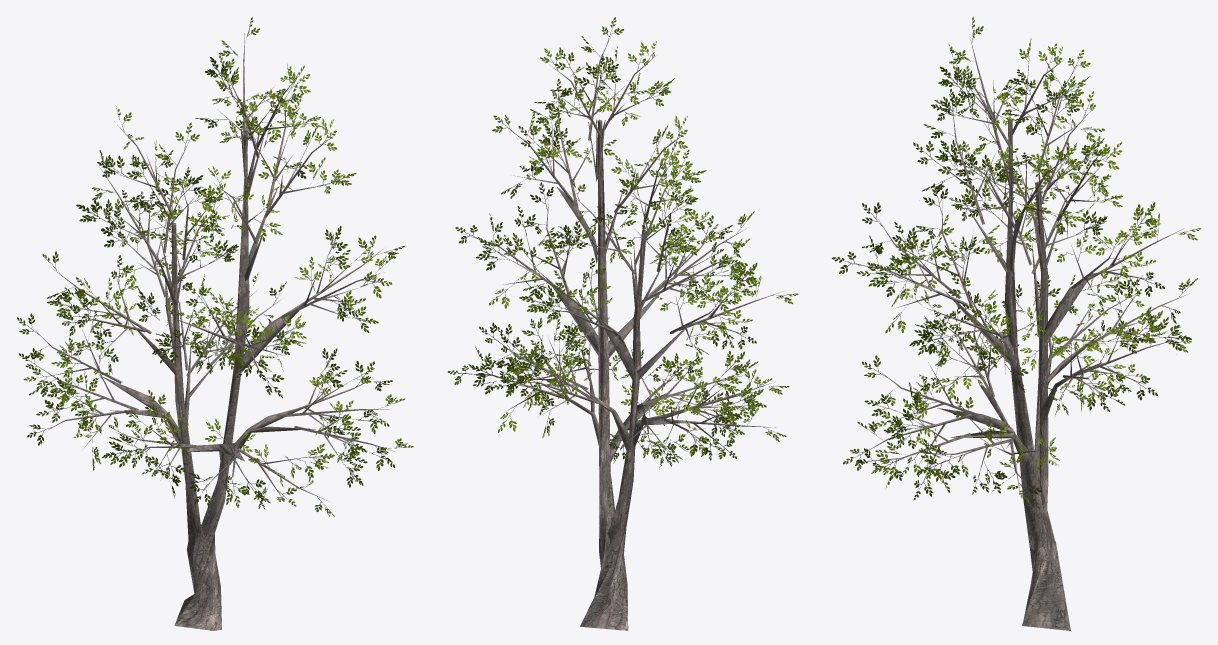
Rendered from tree_elm_lo.glb.
3 views of the same model, side by side, from view 1: azimuth 30°, elevation 25°; view 2: azimuth 150°, elevation 25°; view 3: azimuth 270°, elevation 25° (orthographic). The views are drawn at different scales.
Visible parts, largest first — view 1: Tree_1Mat, Tree_0Mat; view 2: Tree_1Mat, Tree_0Mat; view 3: Tree_1Mat, Tree_0Mat.
Part boxes in pixels (x1,y1,x2,y2): Tree_1Mat: [17, 17, 413, 516]; Tree_0Mat: [33, 33, 394, 630]; Tree_1Mat: [447, 17, 798, 469]; Tree_0Mat: [458, 35, 782, 630]; Tree_1Mat: [832, 17, 1201, 509]; Tree_0Mat: [848, 36, 1189, 630].
Size of the model in its own units: 0.6479 by 0.9972 by 0.5576.
2 materials, 2 textured.
